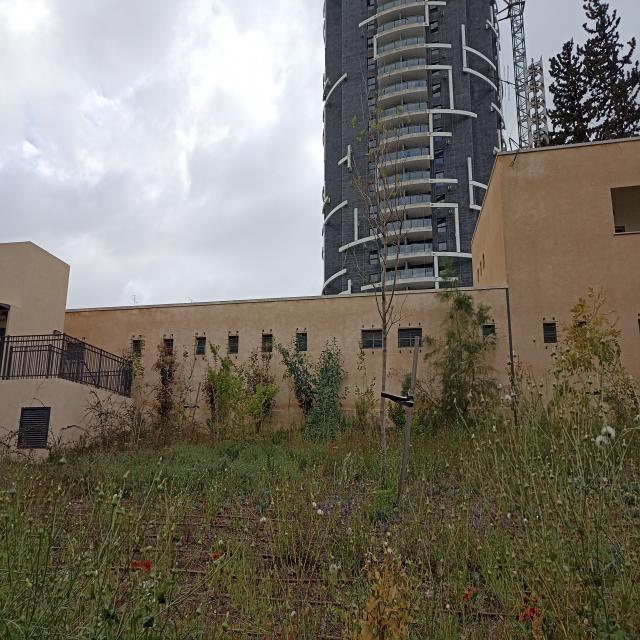Window: (16, 407, 50, 449), (398, 326, 425, 348), (360, 328, 385, 350), (572, 320, 590, 342), (478, 324, 496, 344), (65, 343, 86, 360), (542, 320, 556, 343), (294, 332, 310, 352), (260, 333, 274, 355), (194, 334, 207, 356), (434, 169, 446, 191), (435, 214, 448, 234), (162, 337, 174, 358), (130, 338, 143, 357), (434, 193, 446, 212), (366, 96, 378, 115), (228, 335, 239, 355), (433, 148, 445, 166), (367, 180, 379, 197), (432, 102, 442, 122), (367, 136, 378, 154), (367, 204, 378, 222), (436, 238, 448, 254), (366, 76, 378, 92), (368, 158, 380, 174), (367, 116, 377, 135), (428, 17, 439, 34), (368, 249, 379, 266), (430, 39, 440, 57), (432, 60, 442, 78), (368, 226, 379, 242), (434, 125, 443, 144), (432, 82, 442, 99), (366, 34, 376, 51), (366, 56, 376, 72), (366, 13, 374, 32), (370, 272, 380, 286), (366, 0, 376, 12), (478, 258, 484, 278), (482, 251, 486, 271), (476, 268, 479, 285)
